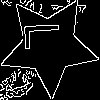L: (24, 20, 70, 51)
